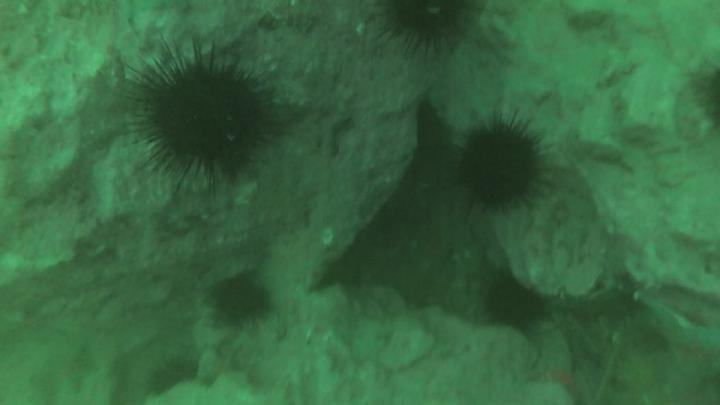echinus: (152, 69, 265, 167), (458, 125, 534, 196), (483, 281, 542, 333), (391, 1, 464, 43), (209, 277, 268, 328)
